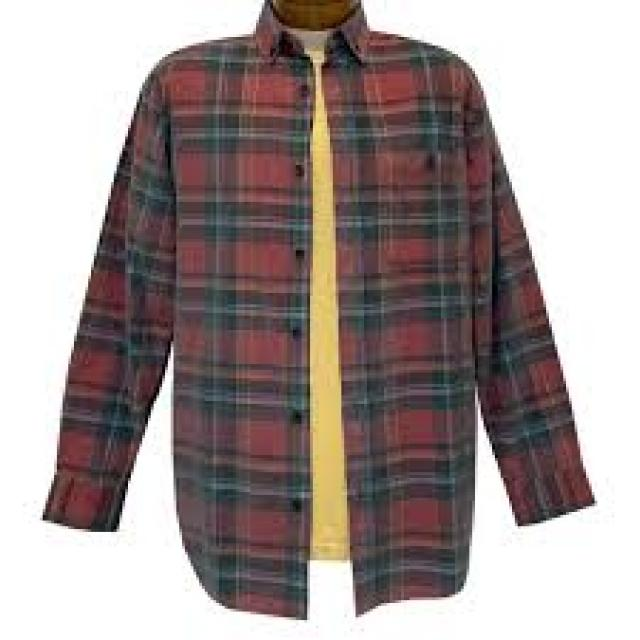plaid: (42, 17, 596, 619)
